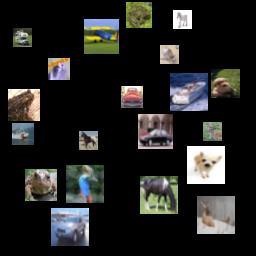airplane: (84, 19, 119, 54)
automobile: (51, 208, 89, 246), (138, 114, 173, 149), (121, 86, 143, 108)
bird: (66, 165, 104, 203)
cat: (48, 58, 70, 80), (160, 45, 179, 64)
deer: (197, 196, 235, 234), (203, 122, 222, 141)
dog: (187, 146, 225, 184), (211, 69, 240, 98)
frog: (25, 169, 57, 201), (8, 89, 40, 121), (126, 2, 152, 28)
ship: (170, 73, 208, 111), (12, 123, 34, 145)
truck: (13, 28, 32, 47)
